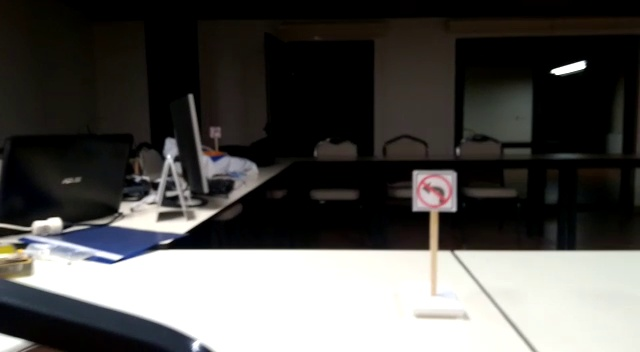sola_donulmez: (417, 172, 454, 208)
